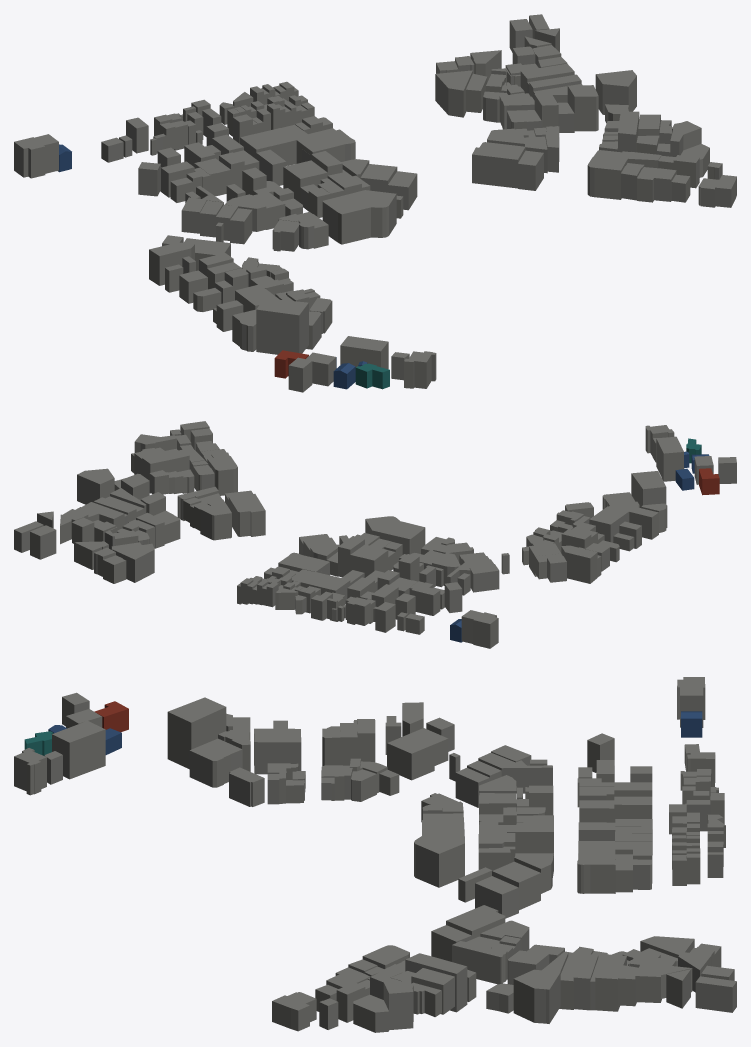
File: near-16-54721-29738.8547d081.glb
3 views of the same model, one above another, from view 1: azimuth 30°, elevation 25°; view 2: azimuth 150°, elevation 25°; view 3: azimuth 270°, elevation 25° (orthographic). The views are drawn at different scales.
Bounding box in the file's own units: 604 × 67.15 × 609.
